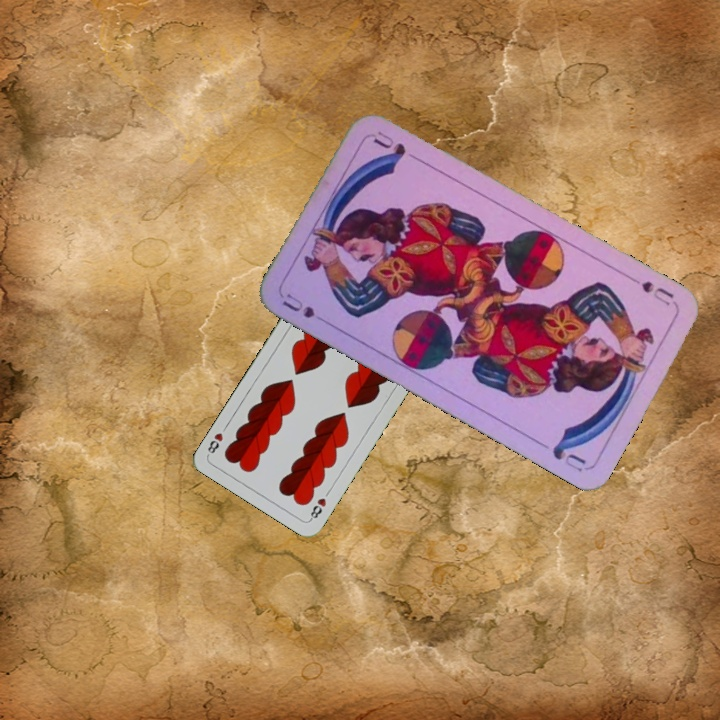H8: (306, 494, 329, 523)
SU: (278, 289, 333, 328), (625, 272, 677, 309)
